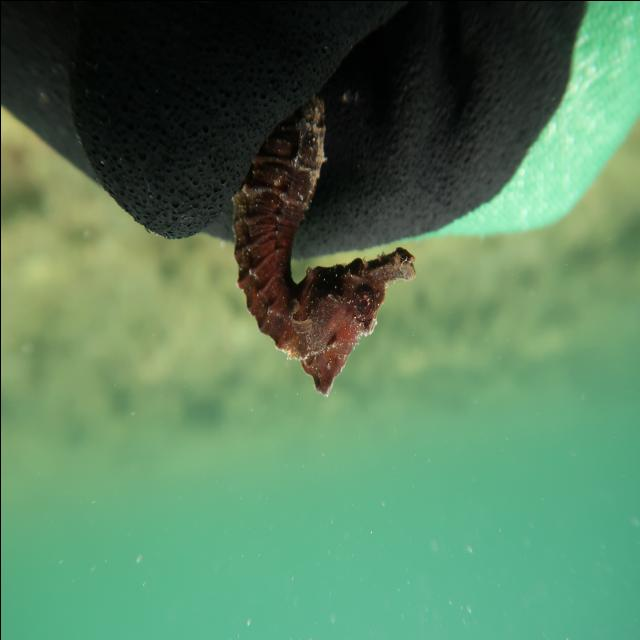Hippo: (284, 242, 418, 404)
